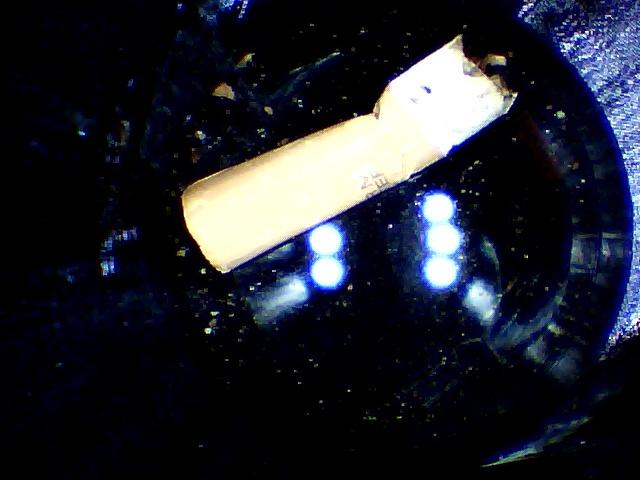megot: (174, 29, 528, 277)
